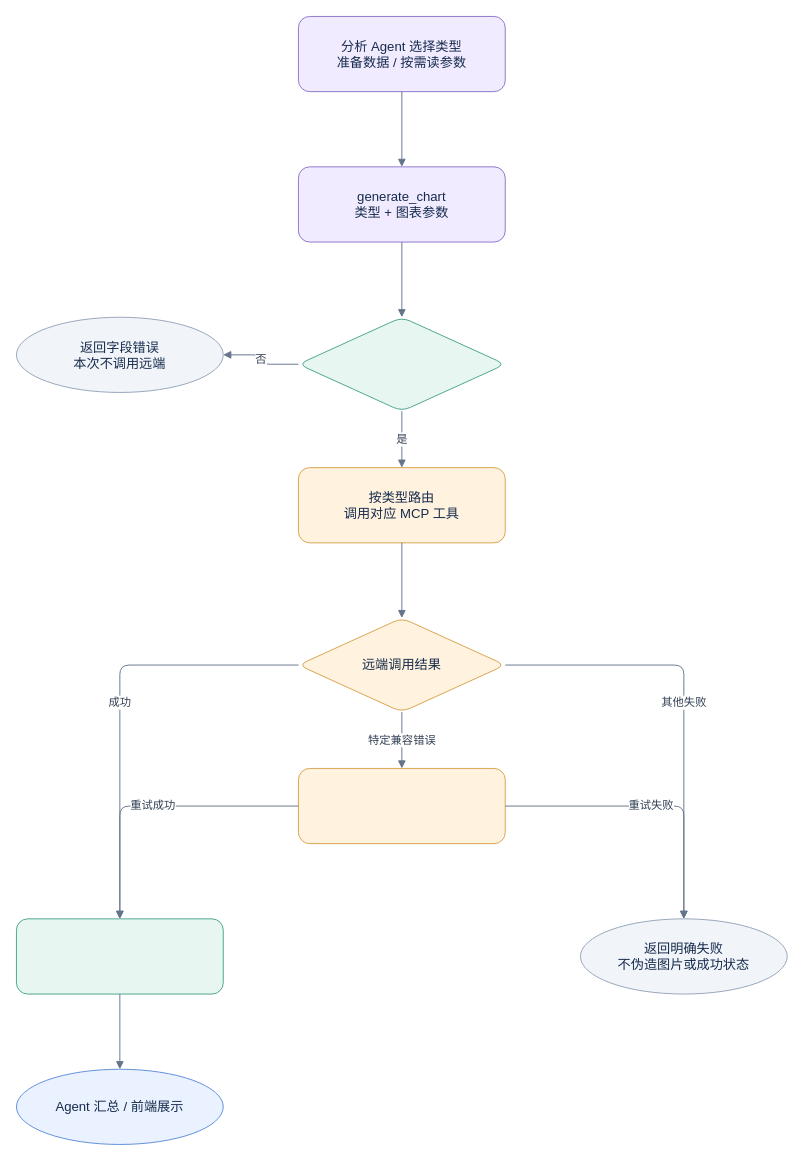
Some shapes in this 804 by 1161 pixel diagram are drawn without their labels. Here are the shapes that lost their labels. From the top down, the centre of each, then its label:
point 401,363: 本地校验通过？
point 401,806: default 主题重试一次 只处理已知 dark 故障
point 119,956: 保留 content 与 artifact 回退成功时附主题提示
